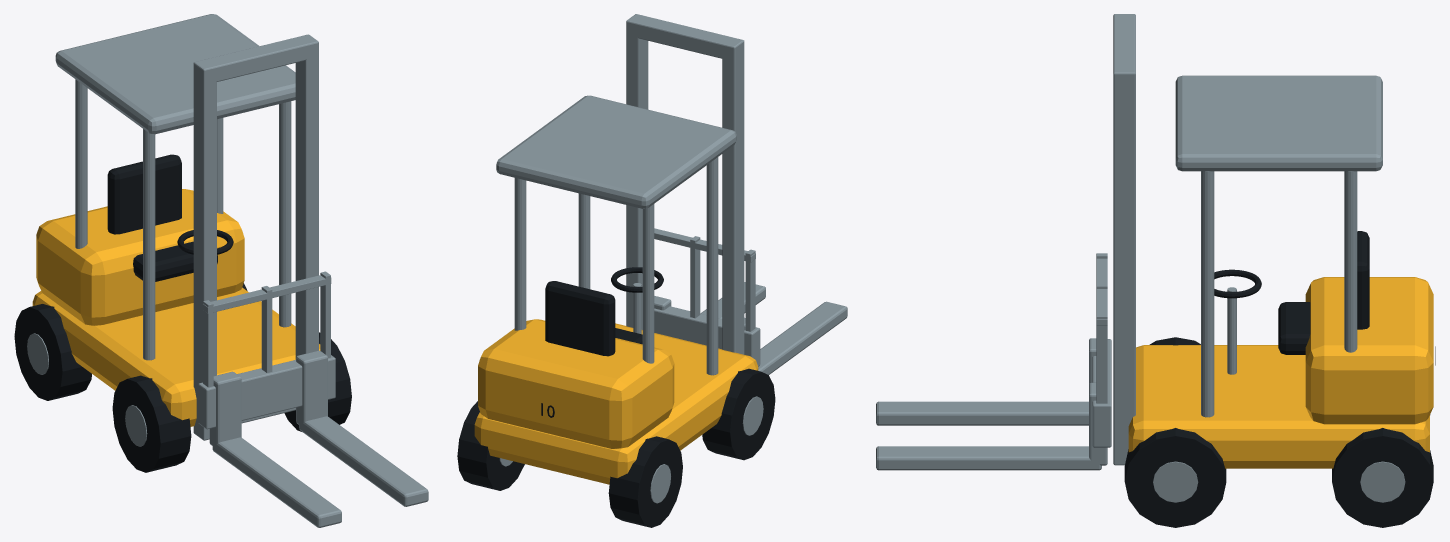
3 renders of one model, left to right at view 1: azimuth 30°, elevation 25°; view 2: azimuth 150°, elevation 25°; view 3: azimuth 270°, elevation 25°, orthographic. The views are drawn at different scales.
Visible parts, largest first — view 1: OVERHEAD_Guard, COUNTERWEIGHT, CHASSIS, MAST_Rail, MAST_Rail.001, TYRE, TYRE.001, SEAT_Back, CARRIAGE, FORK_Blade.001, FORK_Blade, MAST_Crossbar.001 (+14 smaller); view 2: COUNTERWEIGHT, OVERHEAD_Guard, CHASSIS, MAST_Rail, SEAT_Back, TYRE.001, TYRE, MAST_Rail.001, MAST_Crossbar.001, CABIN_Post.001, FORK_Blade, TYRE.003 (+10 smaller); view 3: OVERHEAD_Guard, CHASSIS, COUNTERWEIGHT, MAST_Rail.001, TYRE.002, TYRE.003, FORK_Blade.001, FORK_Blade, CABIN_Post.003, CABIN_Post, MAST_Crossbar.001, SEAT (+9 smaller).
Boxes of the visible parts, x1=… form: OVERHEAD_Guard: x1=55, y1=14, x2=295, y2=134; COUNTERWEIGHT: x1=36, y1=189, x2=244, y2=325; CHASSIS: x1=32, y1=287, x2=320, y2=426; MAST_Rail: x1=193, y1=63, x2=216, y2=440; MAST_Rail.001: x1=295, y1=42, x2=318, y2=359; TYRE: x1=112, y1=375, x2=191, y2=472; TYRE.001: x1=14, y1=304, x2=91, y2=400; SEAT_Back: x1=107, y1=154, x2=181, y2=234; CARRIAGE: x1=198, y1=355, x2=335, y2=429; FORK_Blade.001: x1=299, y1=416, x2=428, y2=506; FORK_Blade: x1=212, y1=437, x2=341, y2=527; MAST_Crossbar.001: x1=193, y1=34, x2=318, y2=84; COUNTERWEIGHT: x1=478, y1=319, x2=674, y2=448; OVERHEAD_Guard: x1=496, y1=95, x2=736, y2=208; CHASSIS: x1=474, y1=323, x2=758, y2=484; MAST_Rail: x1=722, y1=42, x2=744, y2=354; SEAT_Back: x1=545, y1=281, x2=615, y2=356; TYRE.001: x1=608, y1=436, x2=682, y2=527; TYRE: x1=702, y1=368, x2=775, y2=460; MAST_Rail.001: x1=626, y1=21, x2=648, y2=329; MAST_Crossbar.001: x1=626, y1=14, x2=744, y2=60; CABIN_Post.001: x1=706, y1=157, x2=718, y2=375; FORK_Blade: x1=758, y1=301, x2=847, y2=374; TYRE.003: x1=457, y1=401, x2=524, y2=490; OVERHEAD_Guard: x1=1175, y1=75, x2=1382, y2=171; CHASSIS: x1=1128, y1=345, x2=1429, y2=468; COUNTERWEIGHT: x1=1305, y1=277, x2=1433, y2=424; MAST_Rail.001: x1=1113, y1=73, x2=1135, y2=465; TYRE.002: x1=1124, y1=428, x2=1226, y2=527; TYRE.003: x1=1332, y1=428, x2=1433, y2=527; FORK_Blade.001: x1=876, y1=446, x2=1101, y2=470; FORK_Blade: x1=876, y1=401, x2=1088, y2=425; CABIN_Post.003: x1=1201, y1=171, x2=1214, y2=417; CABIN_Post: x1=1344, y1=171, x2=1357, y2=352; MAST_Crossbar.001: x1=1113, y1=14, x2=1135, y2=88; SEAT: x1=1278, y1=302, x2=1310, y2=354.
Size of the model in its own units: 1.25 by 2.55 by 2.97.
